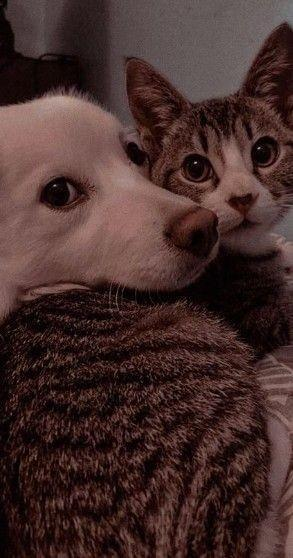kedo: (129, 28, 293, 243)
